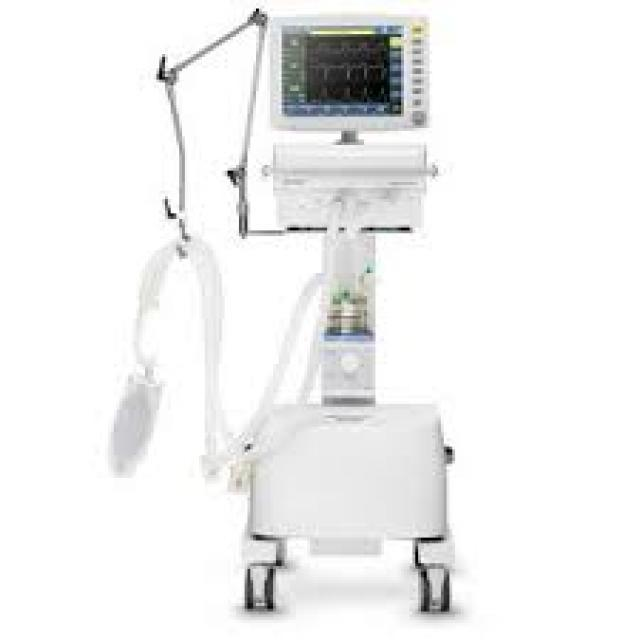ventilator: (84, 1, 517, 598)
